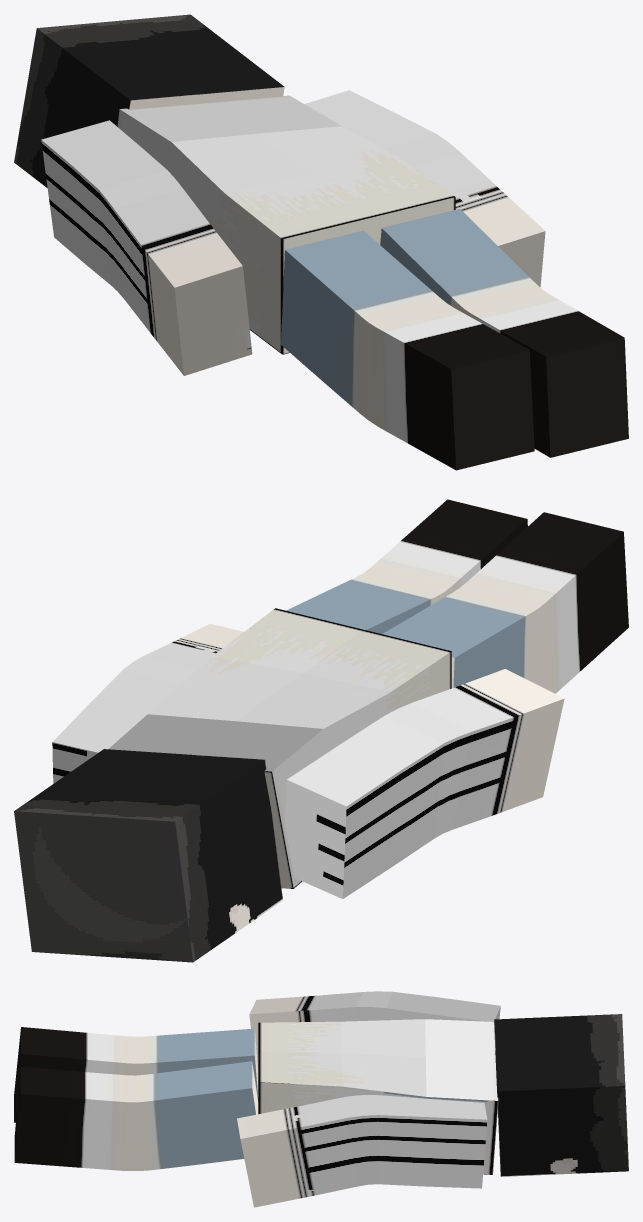
The model's file is Player.fbx.
3 renders of one model, top to bottom at view 1: azimuth 30°, elevation 25°; view 2: azimuth 150°, elevation 25°; view 3: azimuth 270°, elevation 25°, orthographic. The views are drawn at different scales.
Visible parts, largest first — view 1: 身體; view 2: 身體; view 3: 身體.
Boxes of the visible parts, x1,y1,x2,y2 form: 身體: (14,14,628,470); 身體: (14,499,628,962); 身體: (14,991,628,1207).
Size of the model in its own units: 1.62 by 0.7012 by 3.39.
Materials: 1 (1 with a texture image).
